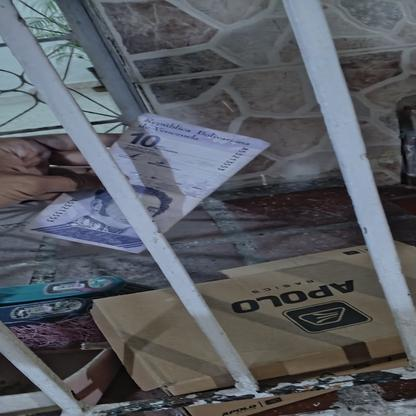ten-front-vef: (162, 25, 304, 271)
